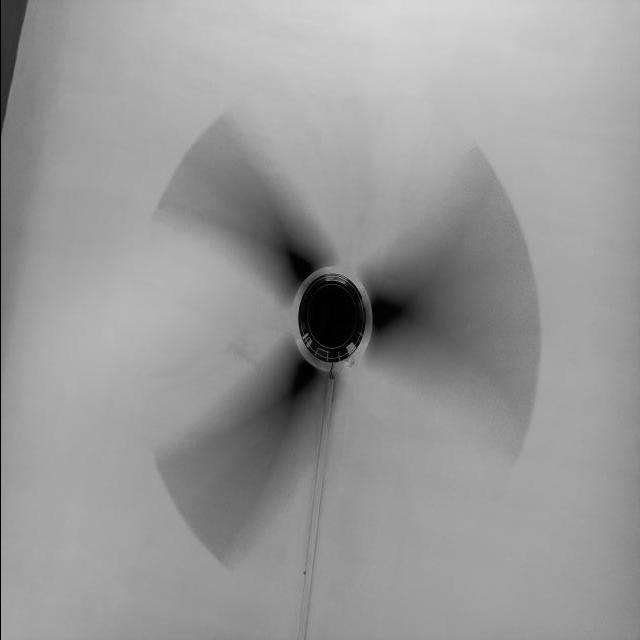fan: (147, 92, 544, 638)
